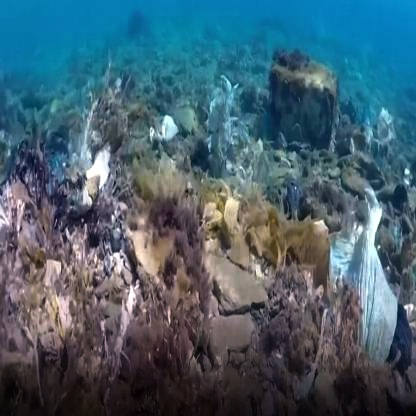plastic: (328, 174, 408, 375), (199, 68, 265, 186)
